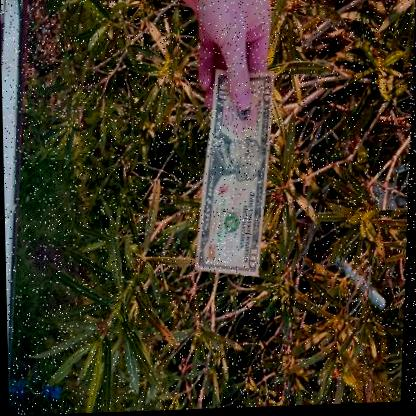ten-front: (196, 70, 274, 279)
